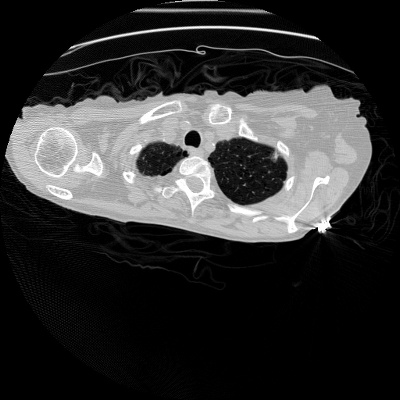PN: (271, 154, 279, 162)
